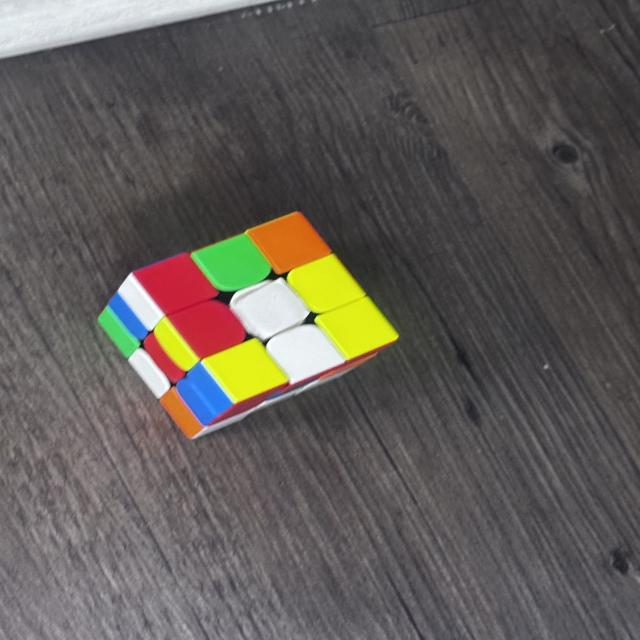sticker: (200, 339, 288, 410), (247, 210, 333, 277), (314, 295, 401, 361), (160, 299, 248, 364), (229, 277, 311, 341), (134, 252, 215, 314), (263, 324, 345, 385), (286, 253, 366, 313), (193, 234, 272, 292)
